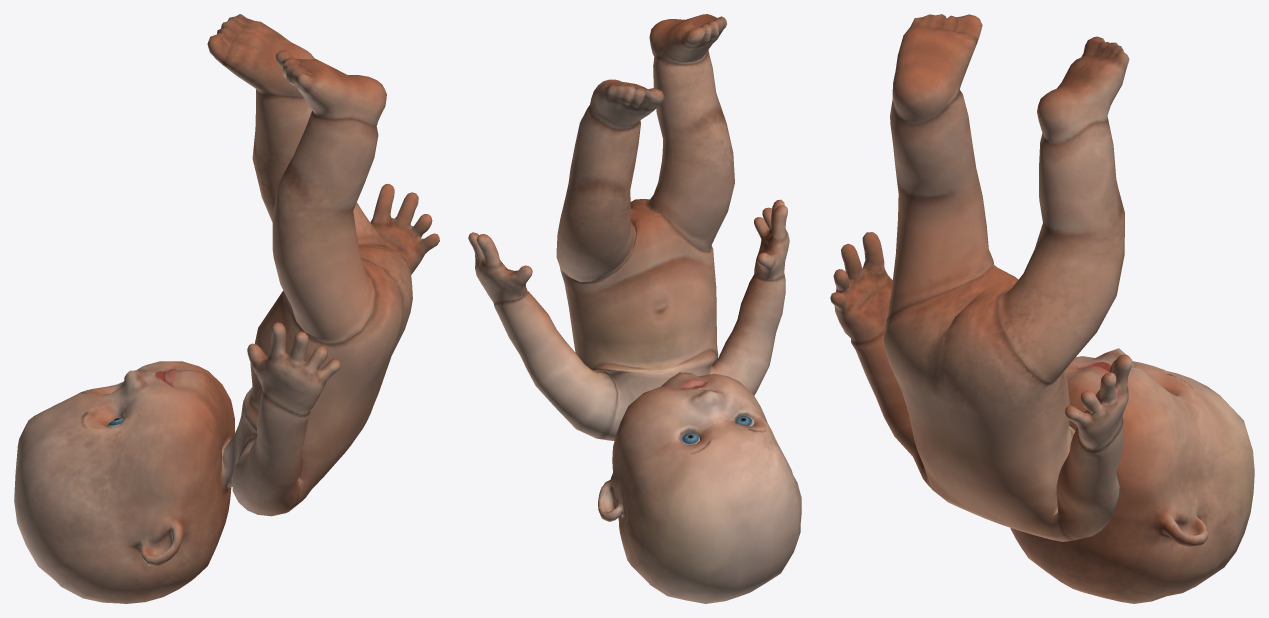
The model's file is SM_BabyDoll_1.fbx.
3 views of the same model, side by side, from view 1: azimuth 30°, elevation 25°; view 2: azimuth 150°, elevation 25°; view 3: azimuth 270°, elevation 25° (orthographic). The views are drawn at different scales.
Visible parts, largest first — view 1: SM_BabyDoll_1; view 2: SM_BabyDoll_1; view 3: SM_BabyDoll_1.
Part boxes in pixels (x1,y1,x2,y2): SM_BabyDoll_1: (14,14,439,603); SM_BabyDoll_1: (468,14,801,603); SM_BabyDoll_1: (830,14,1254,603).
Size of the model in its own units: 14.7 by 12.87 by 20.91.
Materials: 1 (1 with a texture image).
